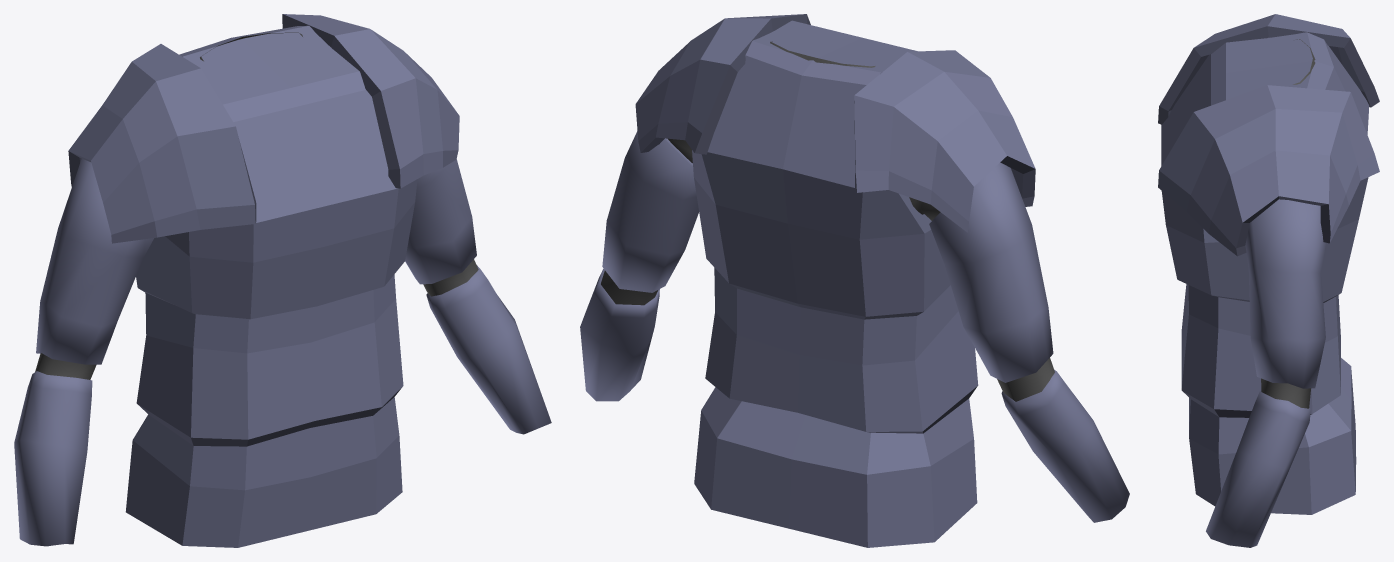
The model's file is Platebody - FL.fbx.
The picture shows the model from 3 angles, left to right: view 1: azimuth 30°, elevation 25°; view 2: azimuth 150°, elevation 25°; view 3: azimuth 270°, elevation 25°; orthographic projection. The views are drawn at different scales.
Parts seen in each view (by area): view 1: Platebody; view 2: Platebody; view 3: Platebody.
Part boxes in pixels (bbox=[...]): Platebody: bbox=[14, 14, 551, 547]; Platebody: bbox=[580, 14, 1129, 547]; Platebody: bbox=[1158, 14, 1379, 547].
Size of the model in its own units: 80.9 by 67.25 by 33.16.
